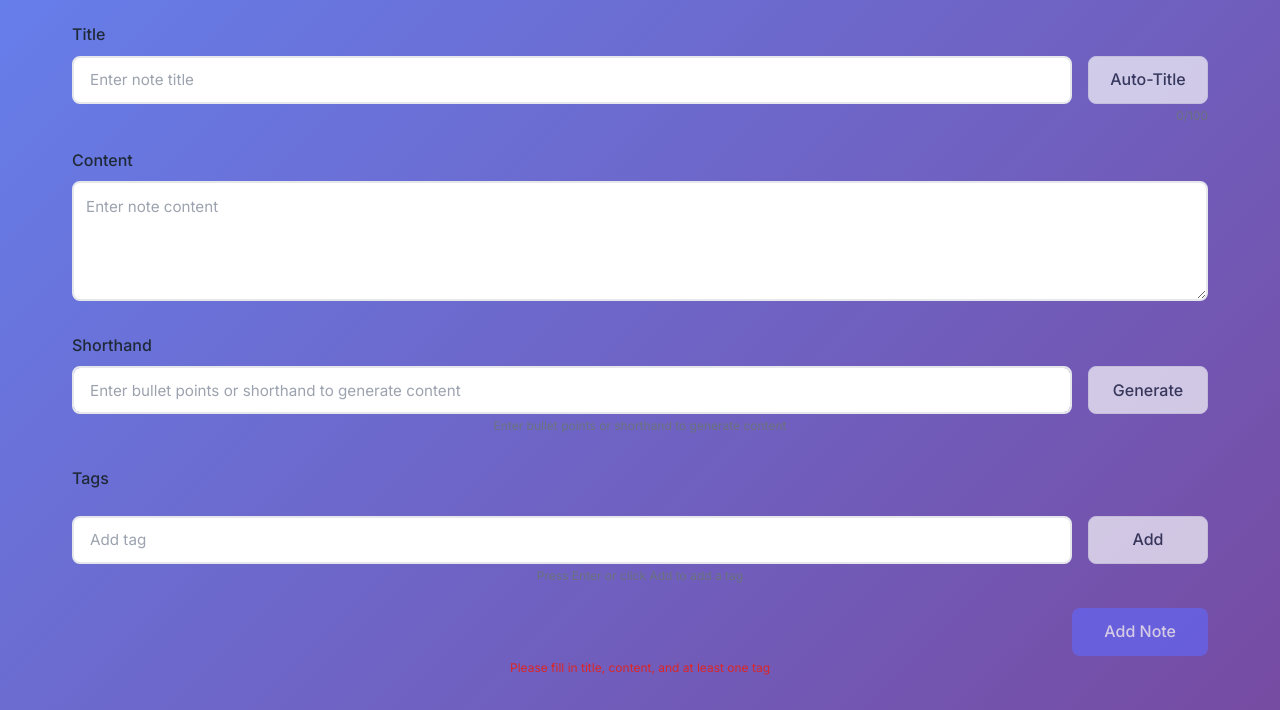
it: AI Error Handling › handles API rate limiting errors
The width and height of the screenshot is (1280, 710).
Note: Fill in shorthand
Type "test shorthand" into the text box with placeholder "Enter bullet points or shorthand to generate content".
click(572, 390); type("test shorthand")  # box x1=72 y1=366 x2=1072 y2=414
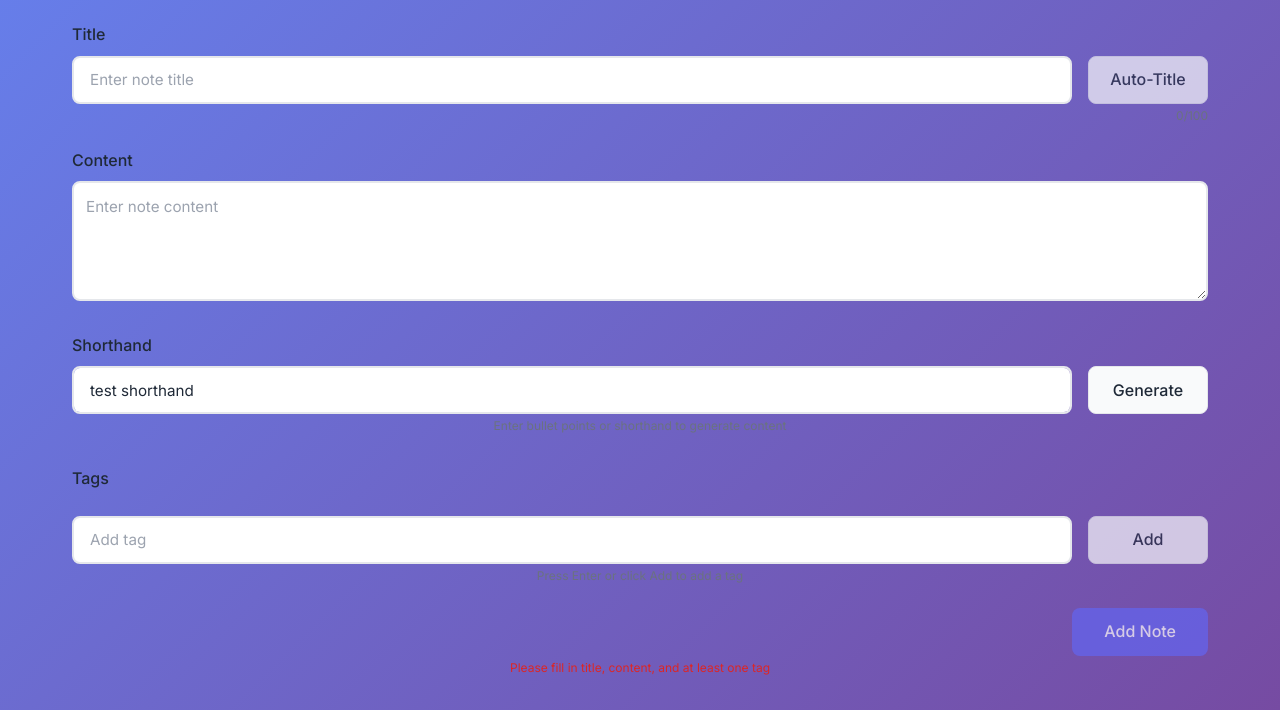
Note: Click generate button
Click the button "Generate".
click(1148, 390)  # box x1=1088 y1=366 x2=1208 y2=414
(page scrolled)
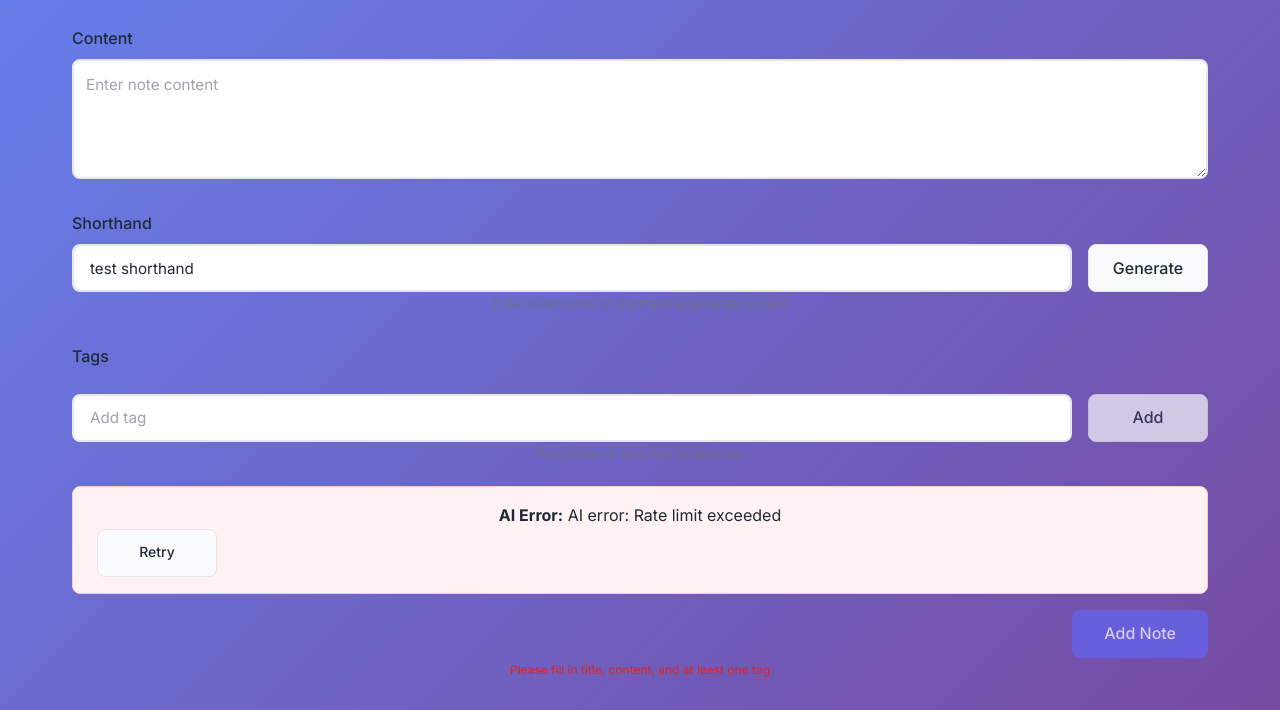
expect the text "AI Error: AI error: Rate limit exceeded Retry" is shown: met, box x1=72 y1=486 x2=1208 y2=594
